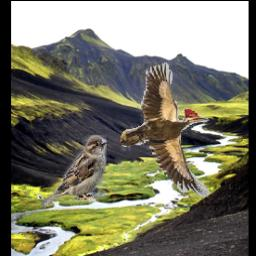Sparrow: (42, 136, 108, 208)
Woodpecker: (119, 60, 211, 198)
